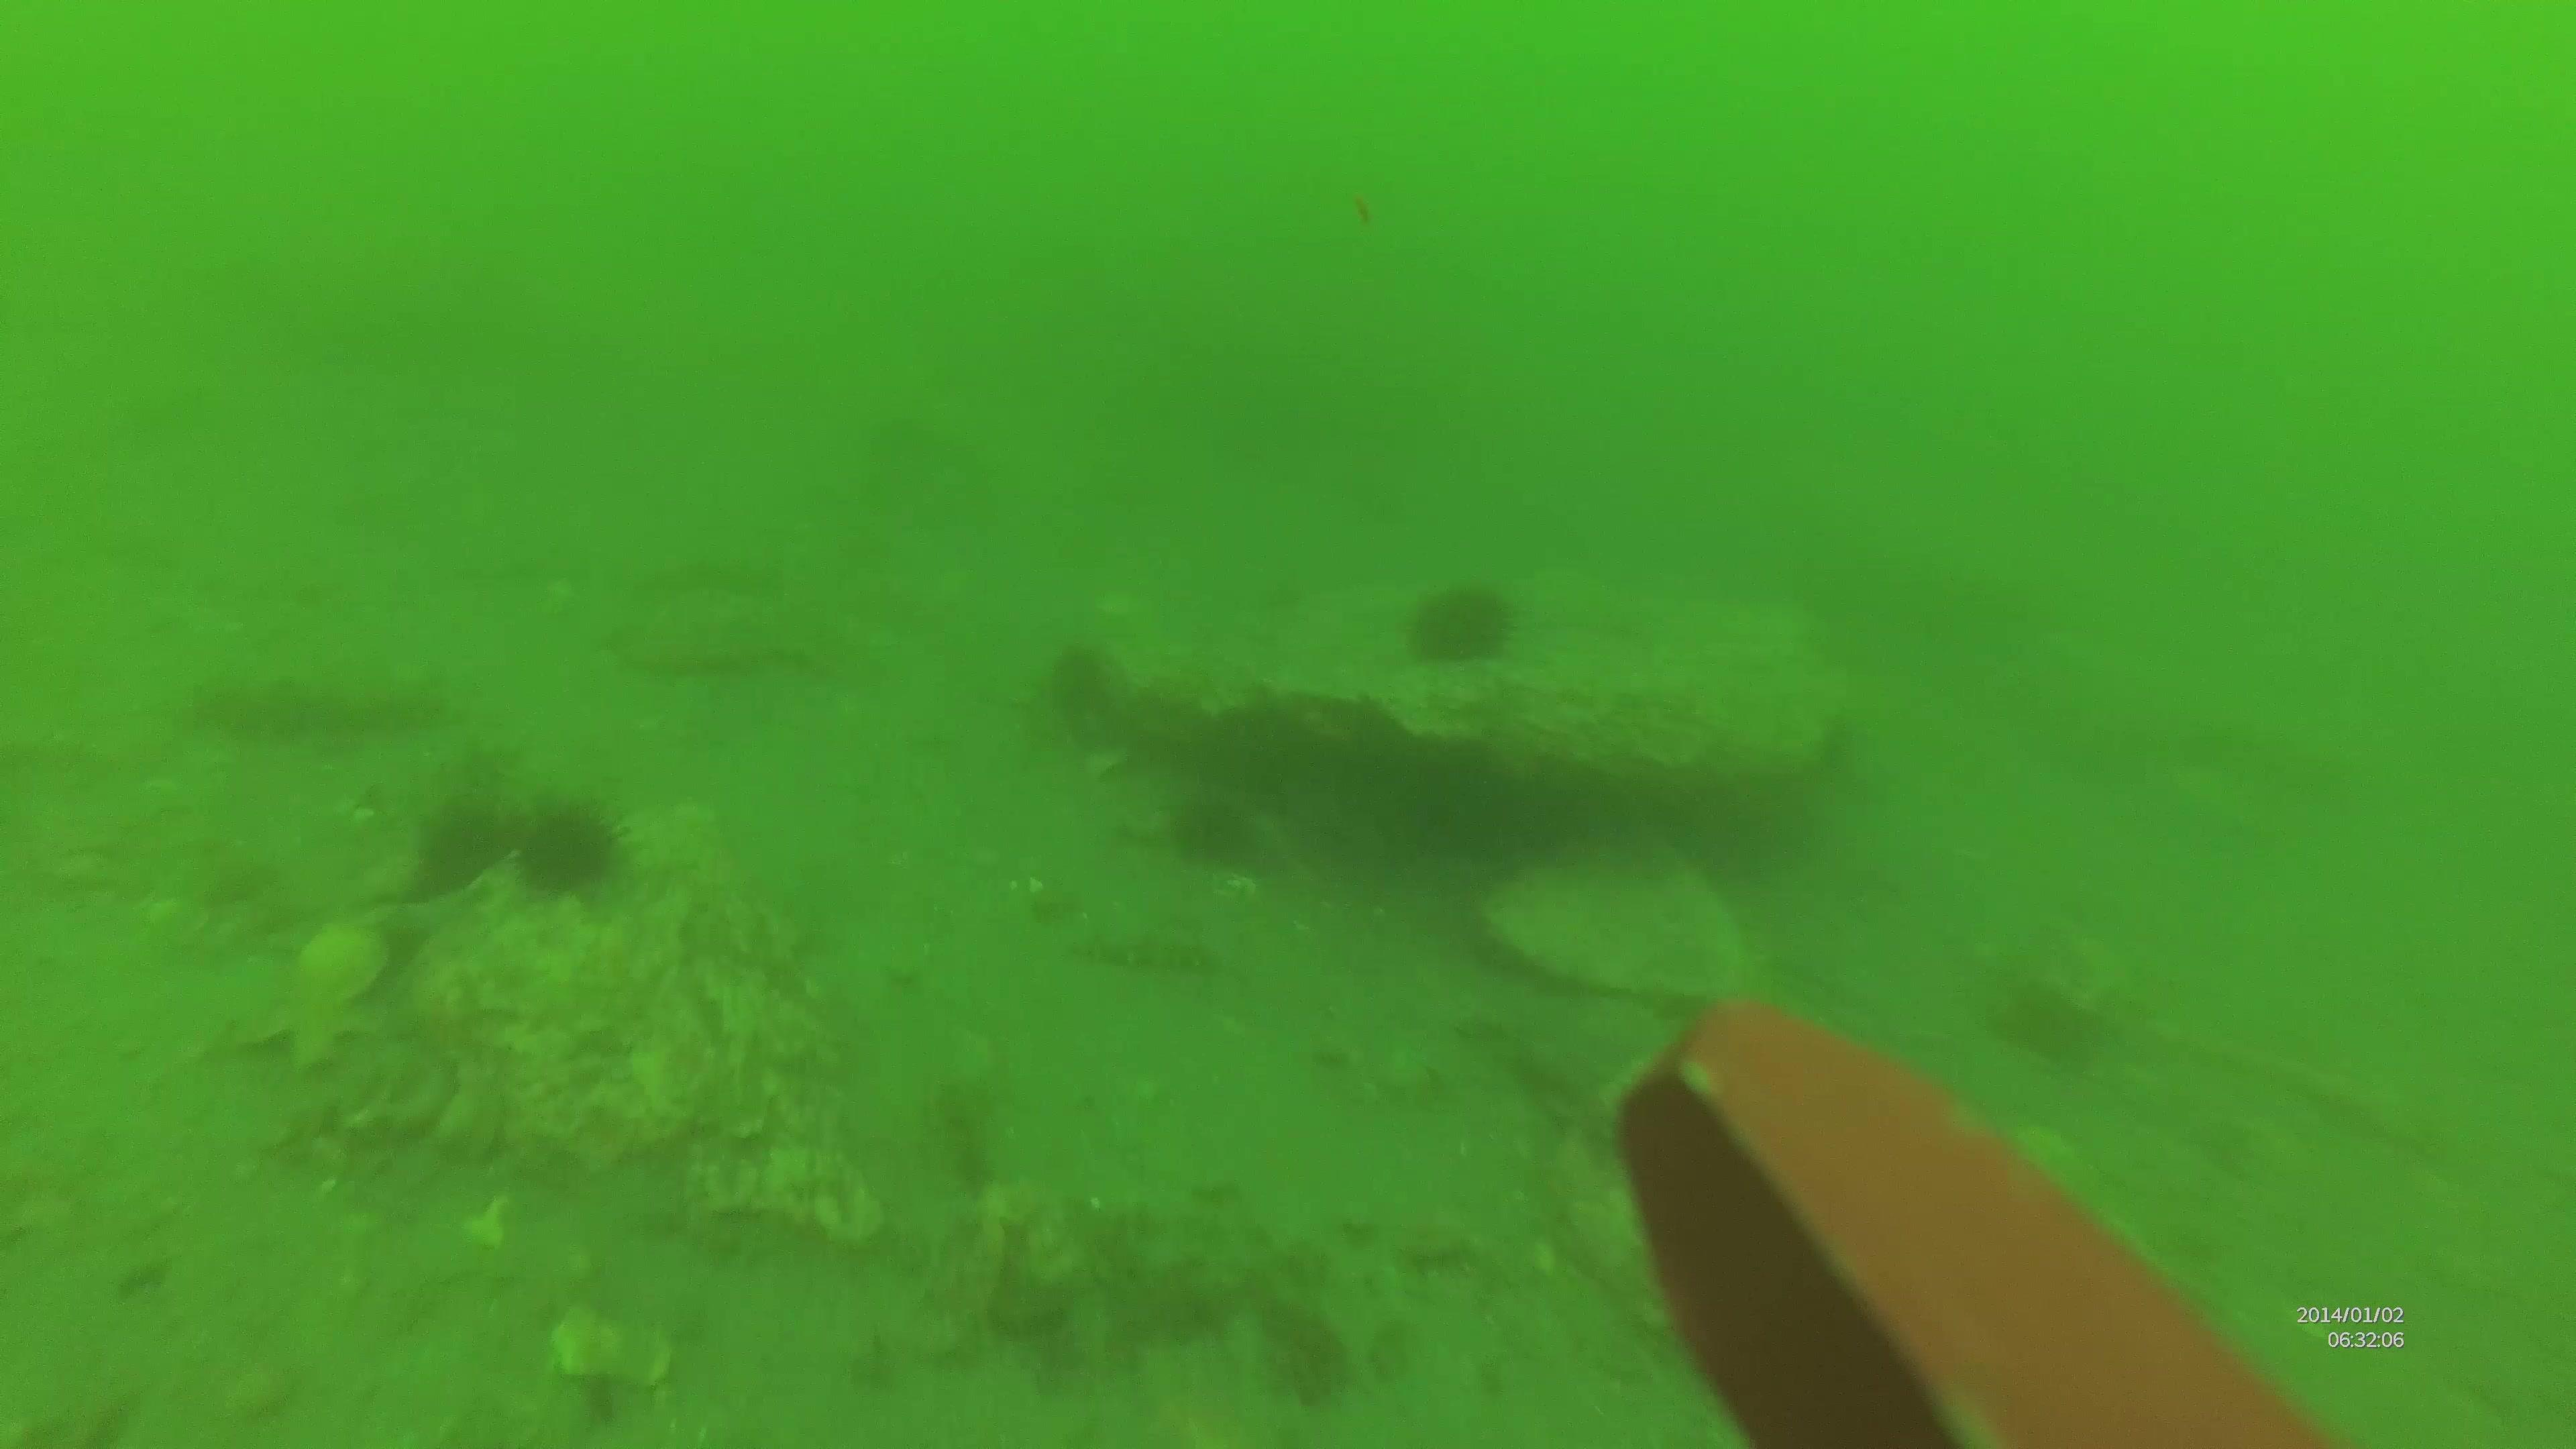echinus: (1396, 573, 1532, 674), (517, 794, 630, 895)
